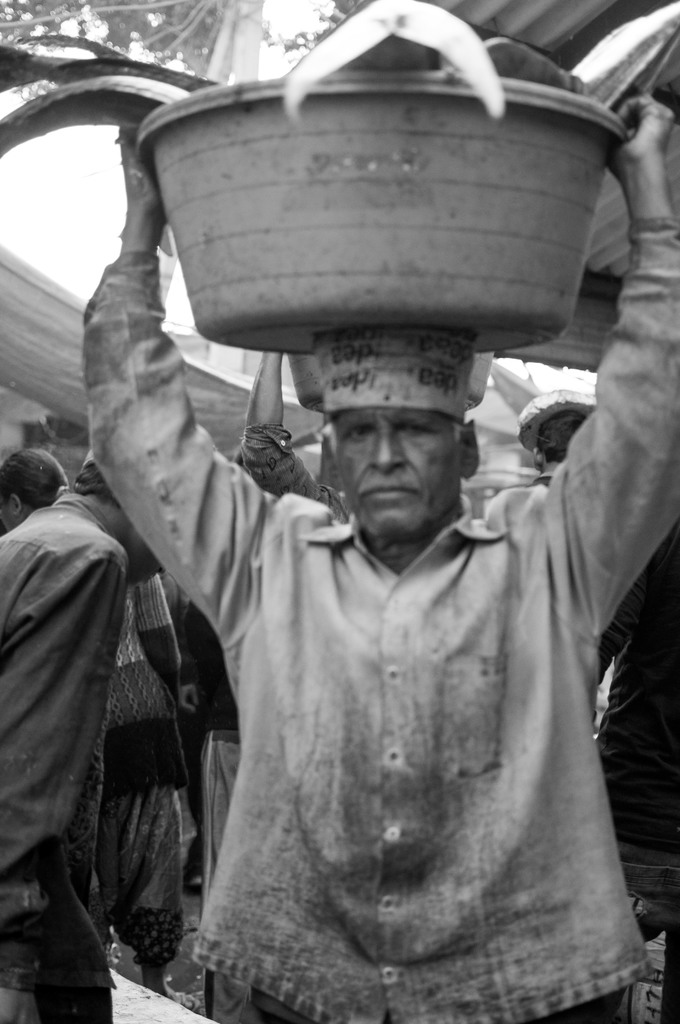person: (2, 441, 69, 547)
